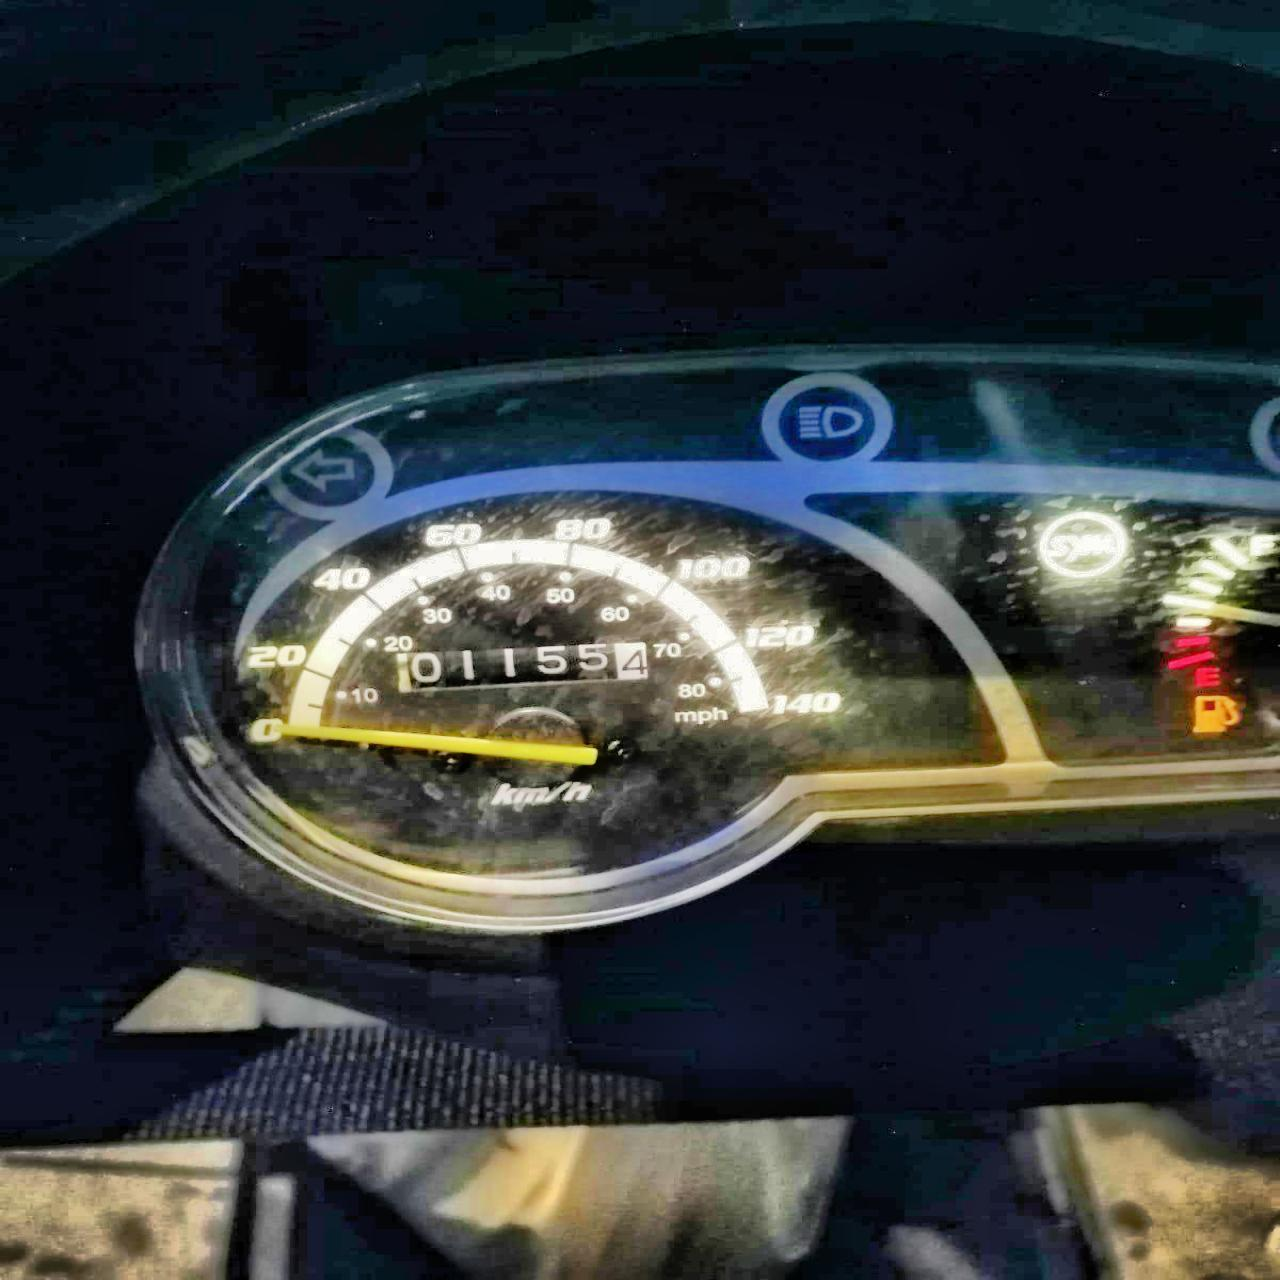0: (408, 651, 443, 683), (397, 634, 413, 652)
1: (457, 647, 478, 681), (499, 645, 518, 679)
2: (383, 635, 399, 652)
4: (619, 646, 648, 676)
5: (532, 644, 570, 674), (576, 641, 610, 672)
odometer: (382, 635, 655, 699)
